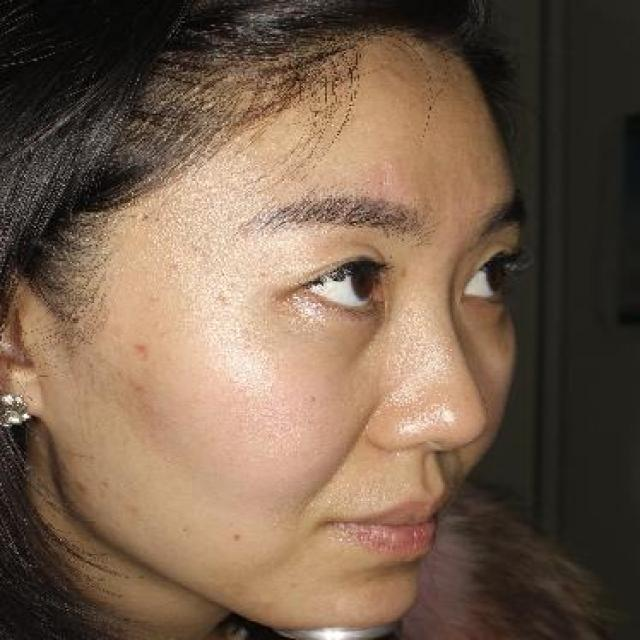Acne: (122, 335, 156, 360), (92, 474, 116, 495), (72, 477, 91, 495), (128, 381, 149, 397)
Whiteheads: (207, 288, 231, 308), (276, 266, 296, 282), (252, 268, 274, 280)
